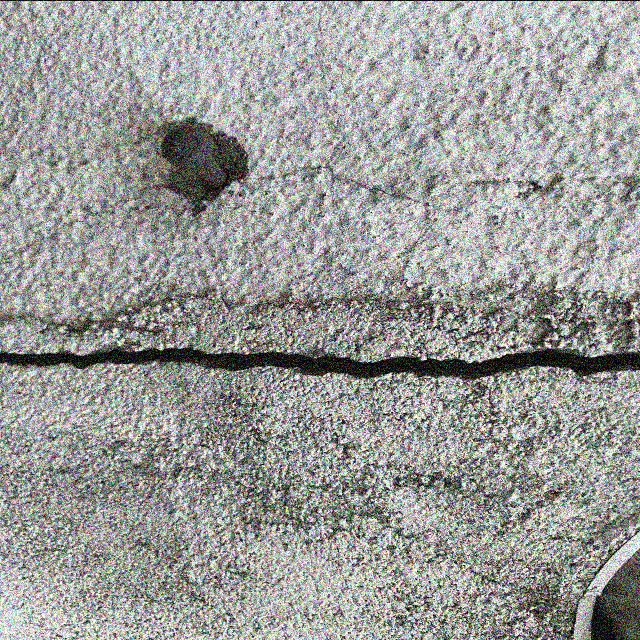SurfaceCrack: (0, 238, 639, 440)
